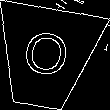O_S: (19, 29, 73, 86)
